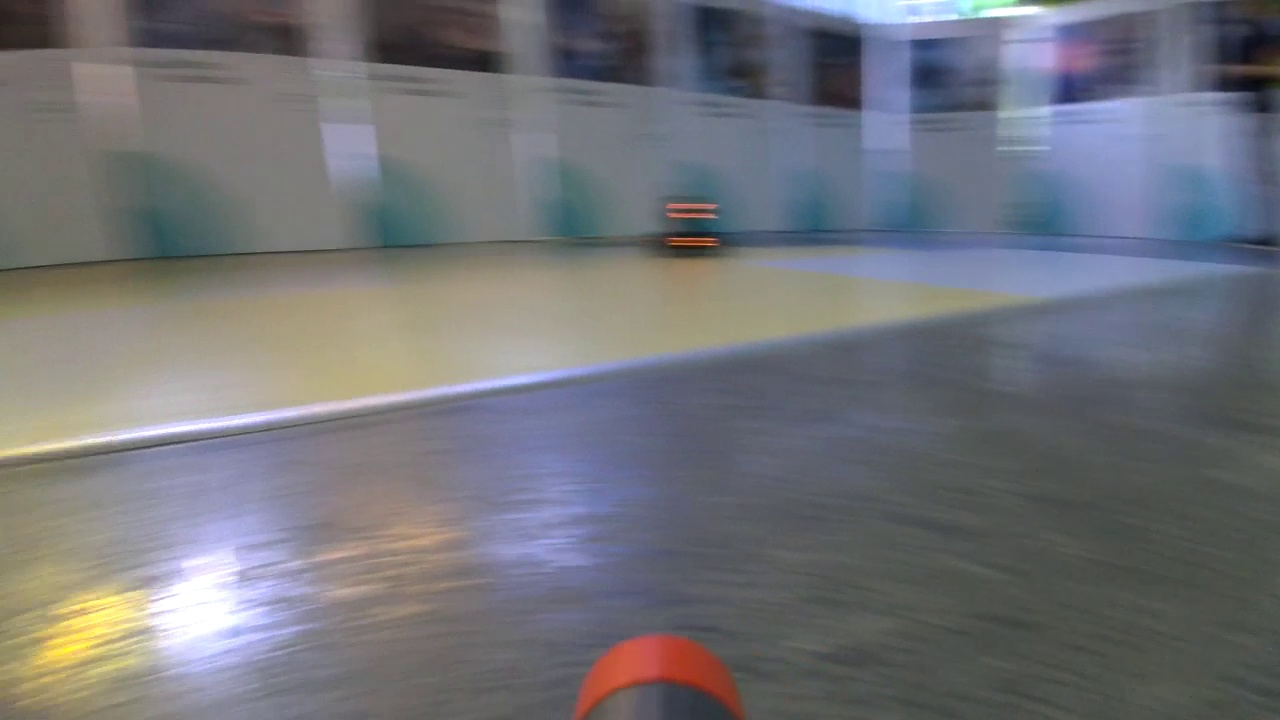robot: (661, 194, 720, 254)
